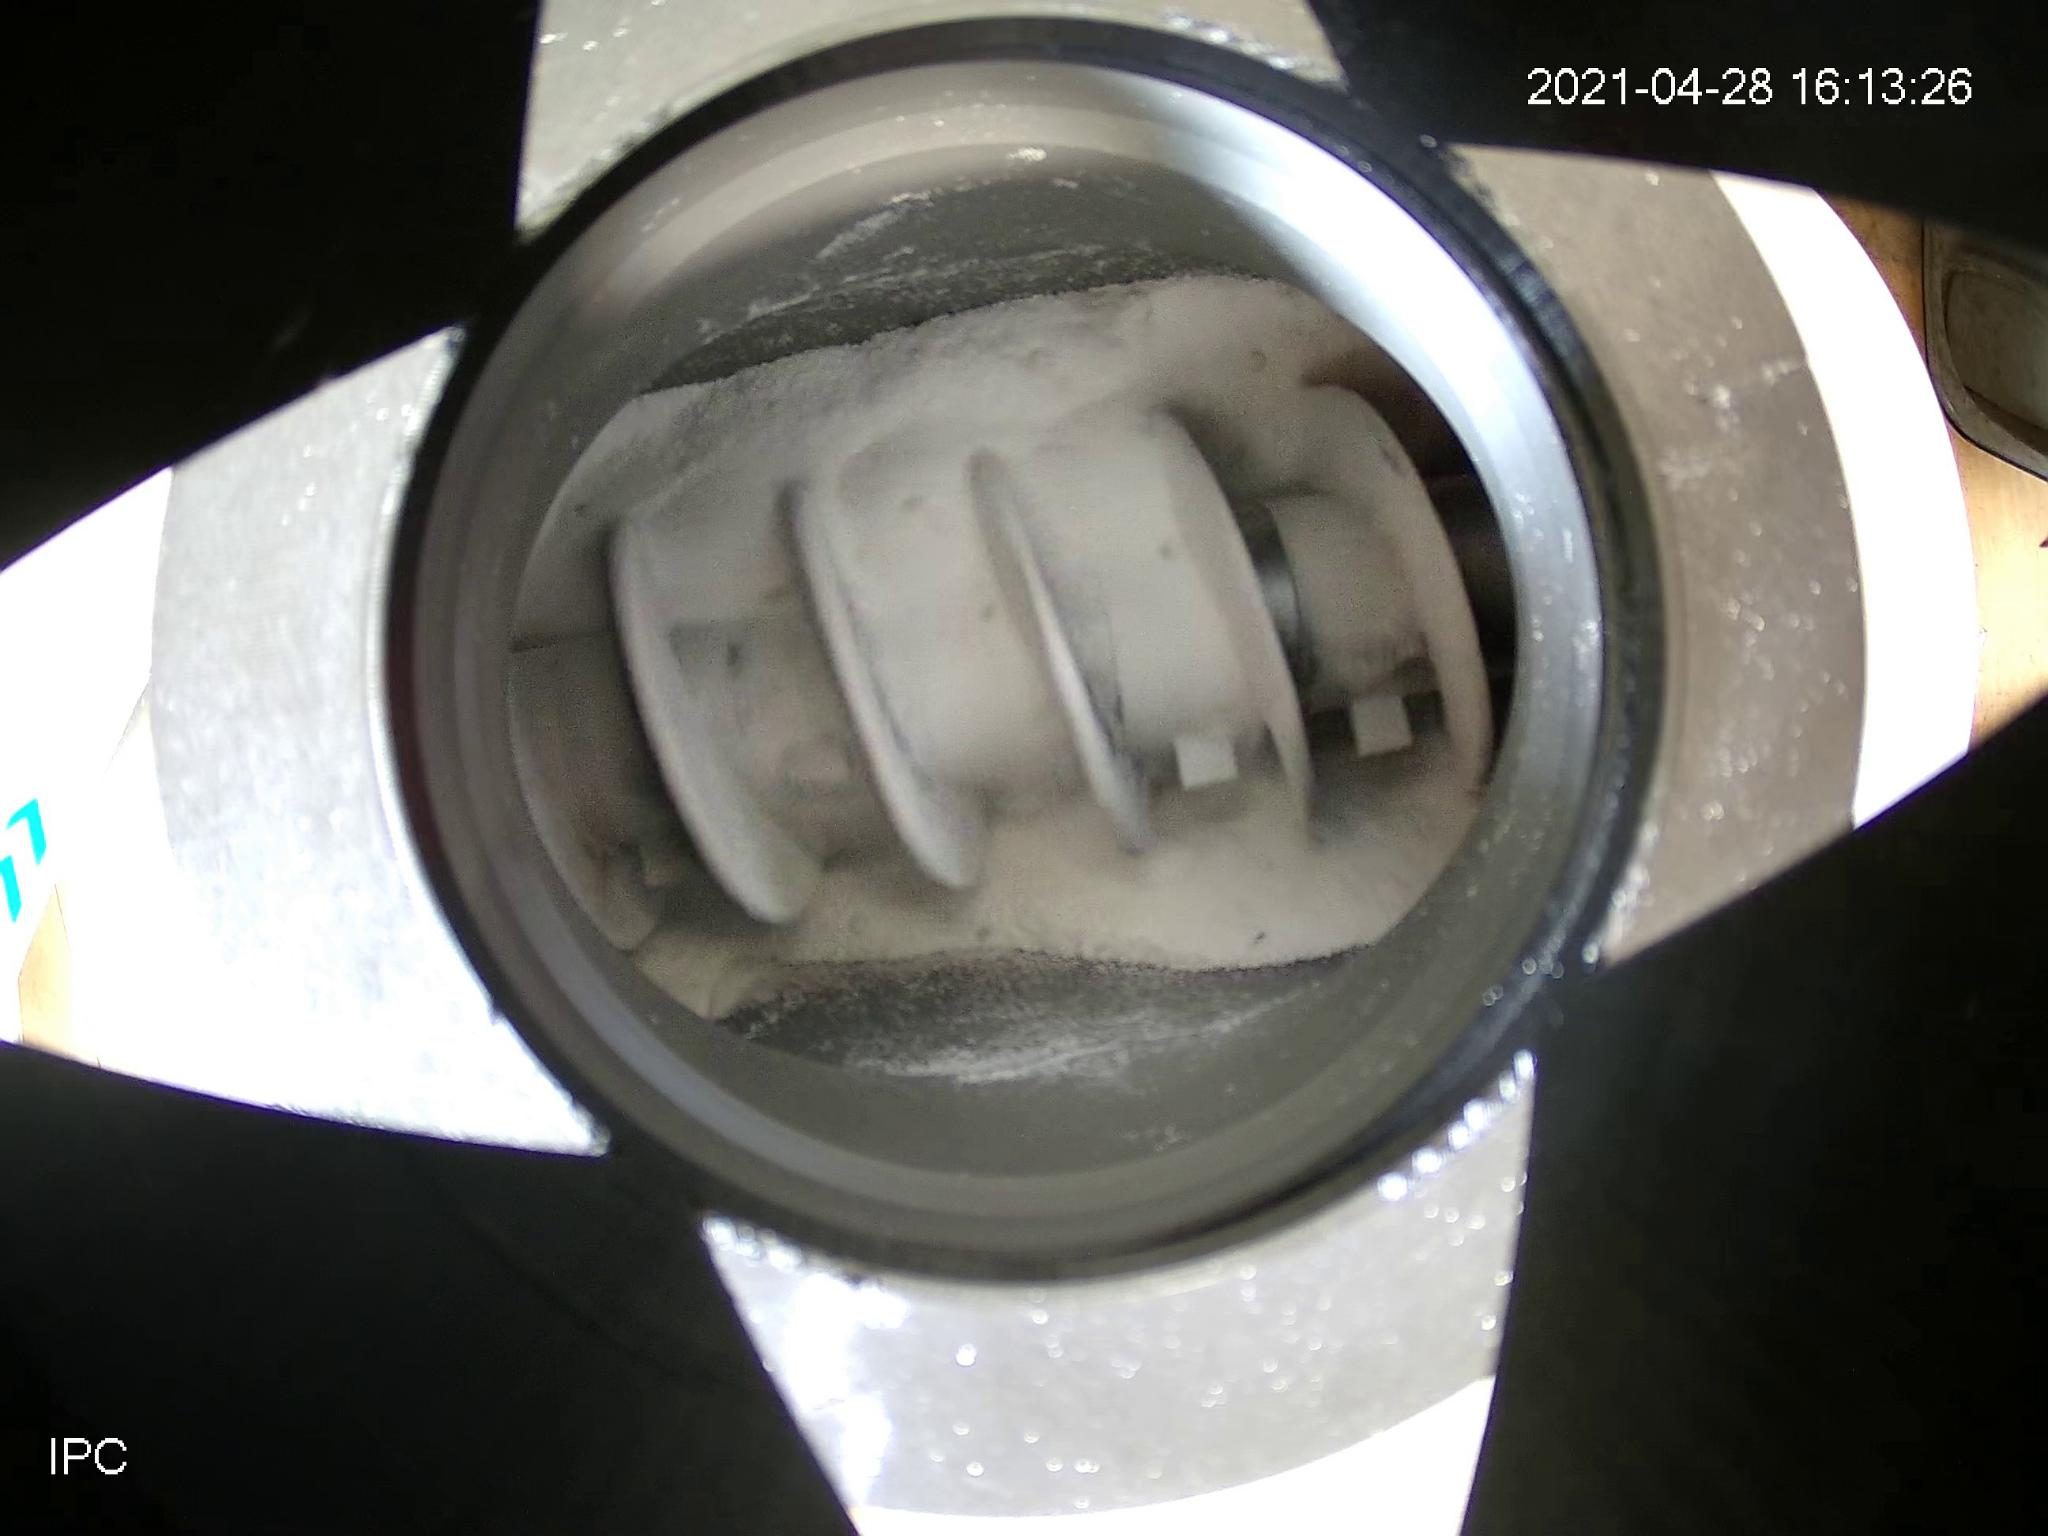stone: (761, 582, 789, 600), (900, 494, 921, 511), (1247, 349, 1264, 369), (1248, 921, 1263, 944), (974, 925, 990, 941), (1158, 544, 1176, 558), (850, 913, 864, 931), (979, 605, 995, 618), (1030, 349, 1047, 361), (572, 502, 584, 513)
